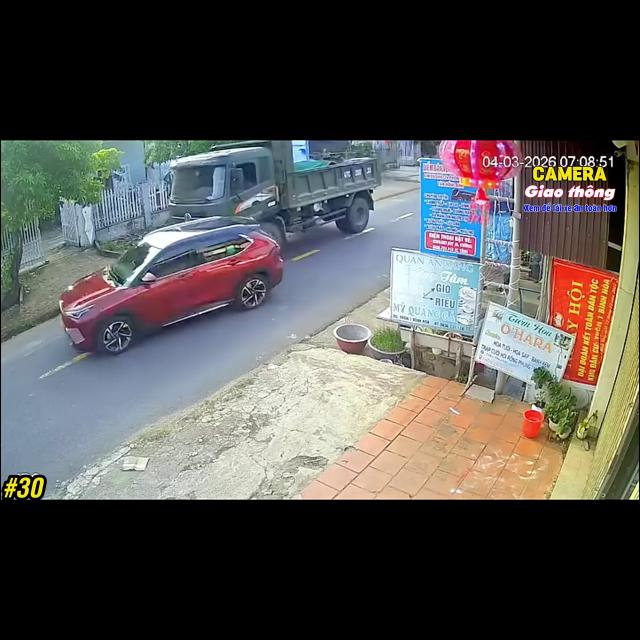car: (59, 217, 283, 354)
truck: (169, 140, 380, 247)
